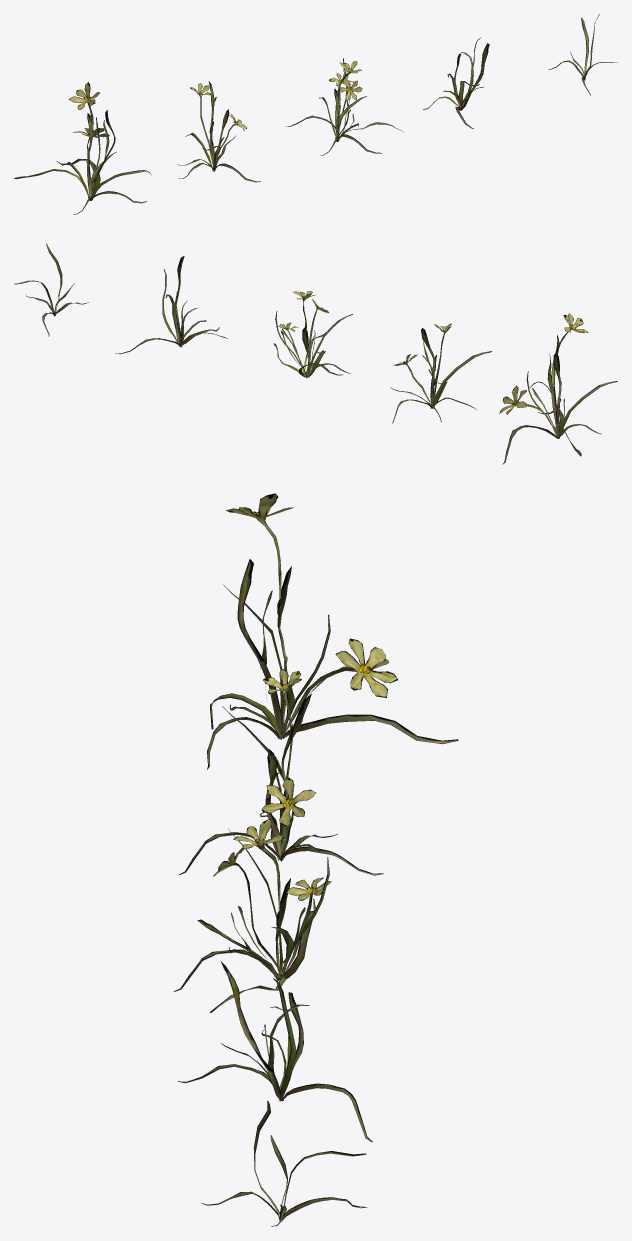
File: flower-empodium.glb
3 views of the same model, one above another, from view 1: azimuth 30°, elevation 25°; view 2: azimuth 150°, elevation 25°; view 3: azimuth 270°, elevation 25° (orthographic). The views are drawn at different scales.
Parts seen in each view (by area): view 1: flower_empodium_a_LOD0, flower_empodium_c_LOD0, flower_empodium_b_LOD0, flower_empodium_d_LOD0, flower_empodium_e_LOD0; view 2: flower_empodium_a_LOD0, flower_empodium_c_LOD0, flower_empodium_b_LOD0, flower_empodium_d_LOD0, flower_empodium_e_LOD0; view 3: flower_empodium_a_LOD0, flower_empodium_c_LOD0, flower_empodium_b_LOD0, flower_empodium_d_LOD0, flower_empodium_e_LOD0.
Boxes of the visible parts, x1,y1,x2,y2 form: flower_empodium_a_LOD0: (14,82,151,214); flower_empodium_c_LOD0: (286,58,403,155); flower_empodium_b_LOD0: (177,81,260,182); flower_empodium_d_LOD0: (423,37,489,128); flower_empodium_e_LOD0: (548,14,617,95); flower_empodium_a_LOD0: (499,313,617,464); flower_empodium_c_LOD0: (273,291,352,377); flower_empodium_b_LOD0: (390,323,491,423); flower_empodium_d_LOD0: (115,256,227,354); flower_empodium_e_LOD0: (14,243,88,336); flower_empodium_a_LOD0: (207,493,458,769); flower_empodium_c_LOD0: (174,818,331,1012); flower_empodium_b_LOD0: (178,668,383,875); flower_empodium_d_LOD0: (178,960,372,1142); flower_empodium_e_LOD0: (201,1101,366,1226).
Size of the model in its own units: 1.32 by 0.2684 by 0.2841.
1 material, 1 textured.
